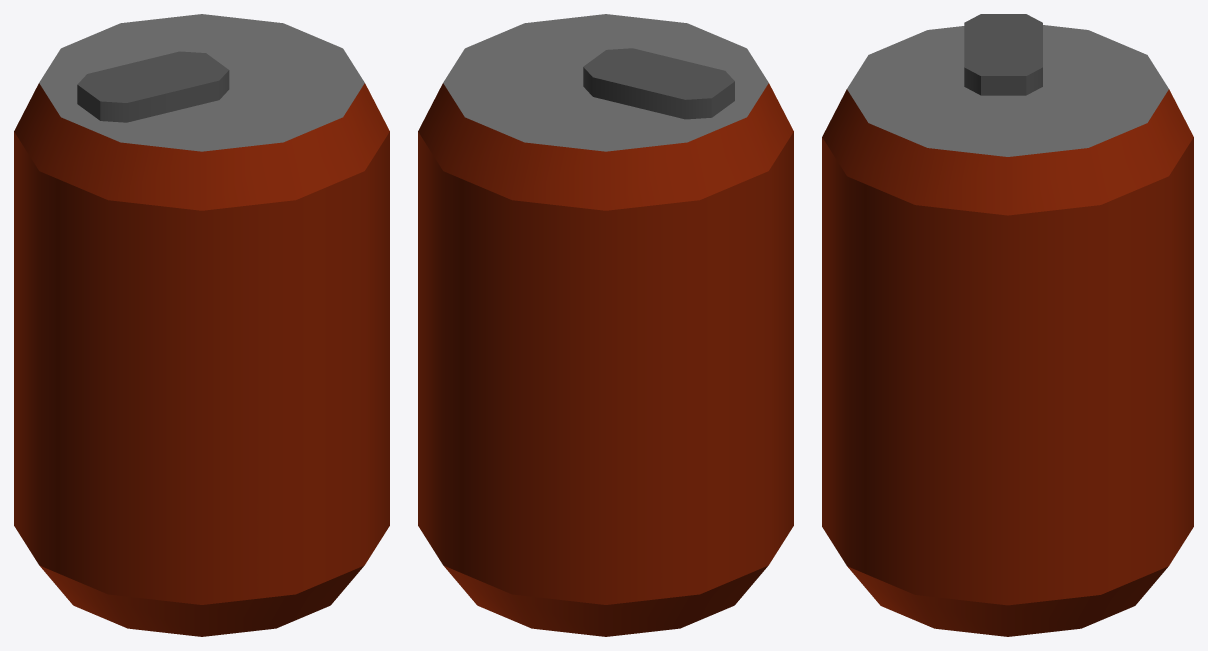
The model's file is jar.fbx.
3 renders of one model, left to right at view 1: azimuth 30°, elevation 25°; view 2: azimuth 150°, elevation 25°; view 3: azimuth 270°, elevation 25°, orthographic.
Visible parts, largest first — view 1: jar; view 2: jar; view 3: jar.
Boxes of the visible parts, x1=… form: jar: x1=14, y1=14, x2=389, y2=636; jar: x1=418, y1=14, x2=793, y2=636; jar: x1=822, y1=14, x2=1193, y2=636.
Size of the model in its own units: 25.84 by 38.76 by 25.84.
